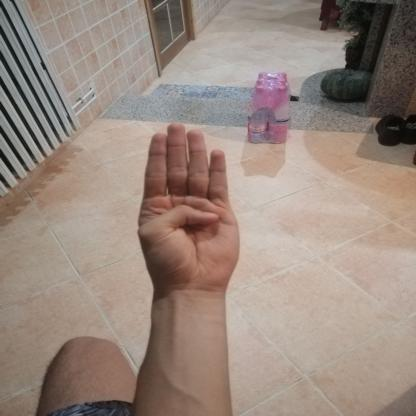KAAF: (126, 117, 255, 302)
